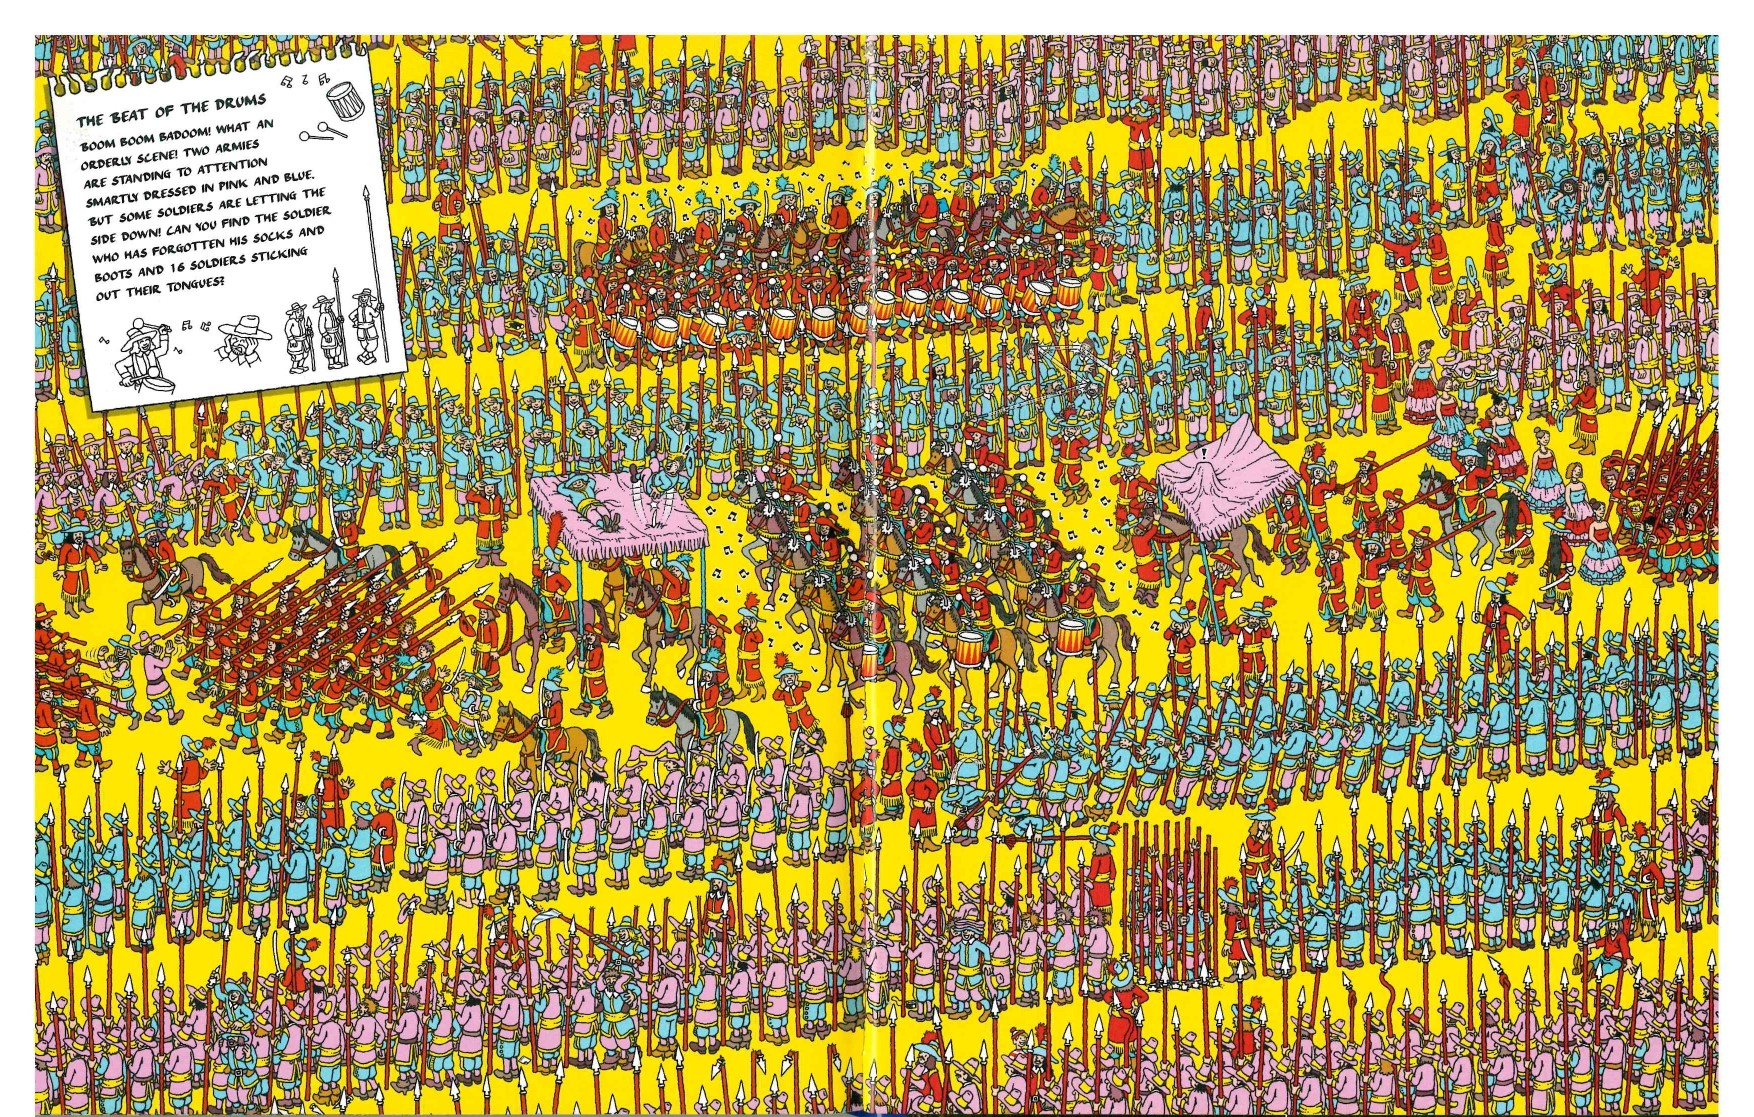waldos: (289, 791, 308, 829)
